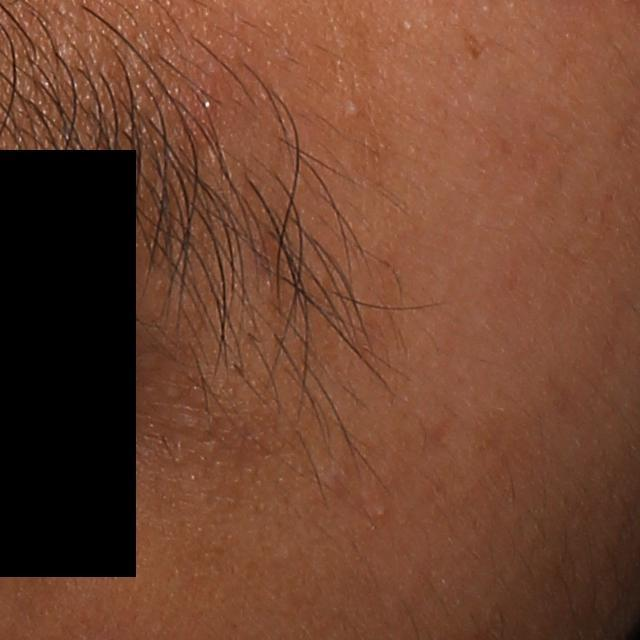comedo: (342, 96, 370, 120), (372, 506, 389, 519)
